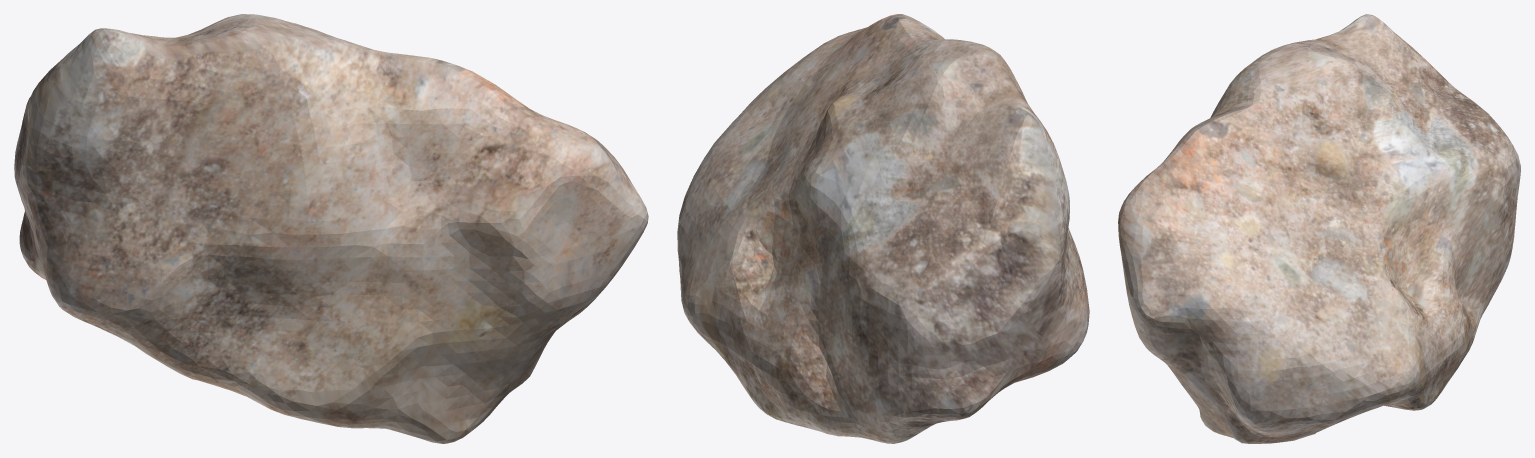
The model's file is rock1.obj.
3 views of the same model, side by side, from view 1: azimuth 30°, elevation 25°; view 2: azimuth 150°, elevation 25°; view 3: azimuth 270°, elevation 25° (orthographic). The views are drawn at different scales.
Size of the model in its own units: 53.35 by 42.73 by 47.78.
